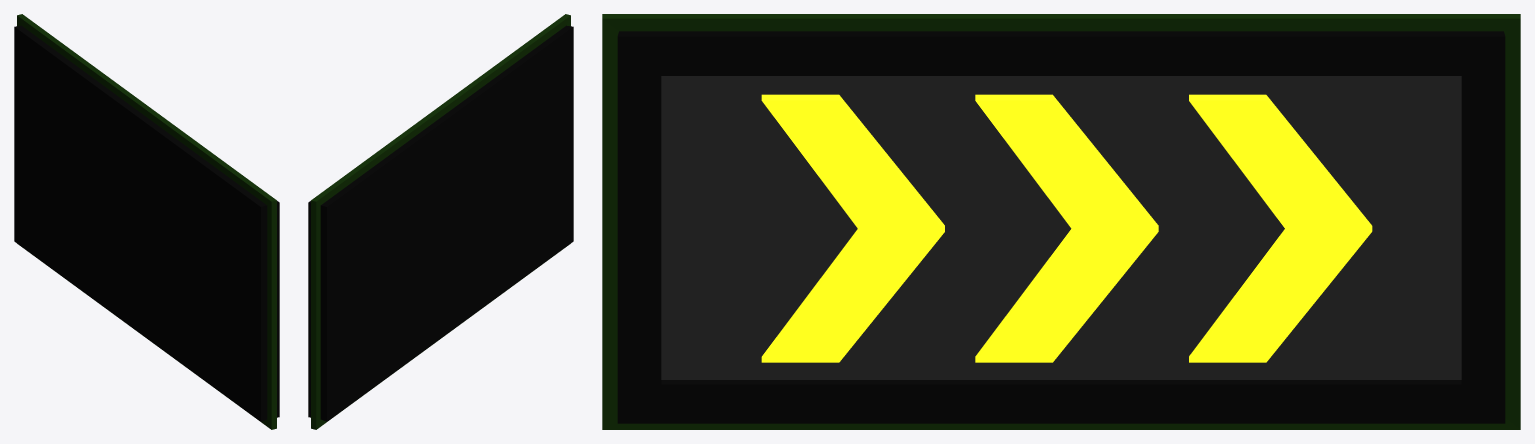
File: arrowsign.fbx
3 views of the same model, side by side, from view 1: azimuth 30°, elevation 25°; view 2: azimuth 150°, elevation 25°; view 3: azimuth 270°, elevation 25° (orthographic). The views are drawn at different scales.
Parts seen in each view (by area): view 1: Cube; view 2: Cube; view 3: Cube.
Boxes of the visible parts, x1=… form: Cube: x1=14, y1=14, x2=279, y2=429; Cube: x1=308, y1=14, x2=573, y2=429; Cube: x1=602, y1=14, x2=1520, y2=429.
Bounding box in the file's own units: 39.91 × 425 × 860.
